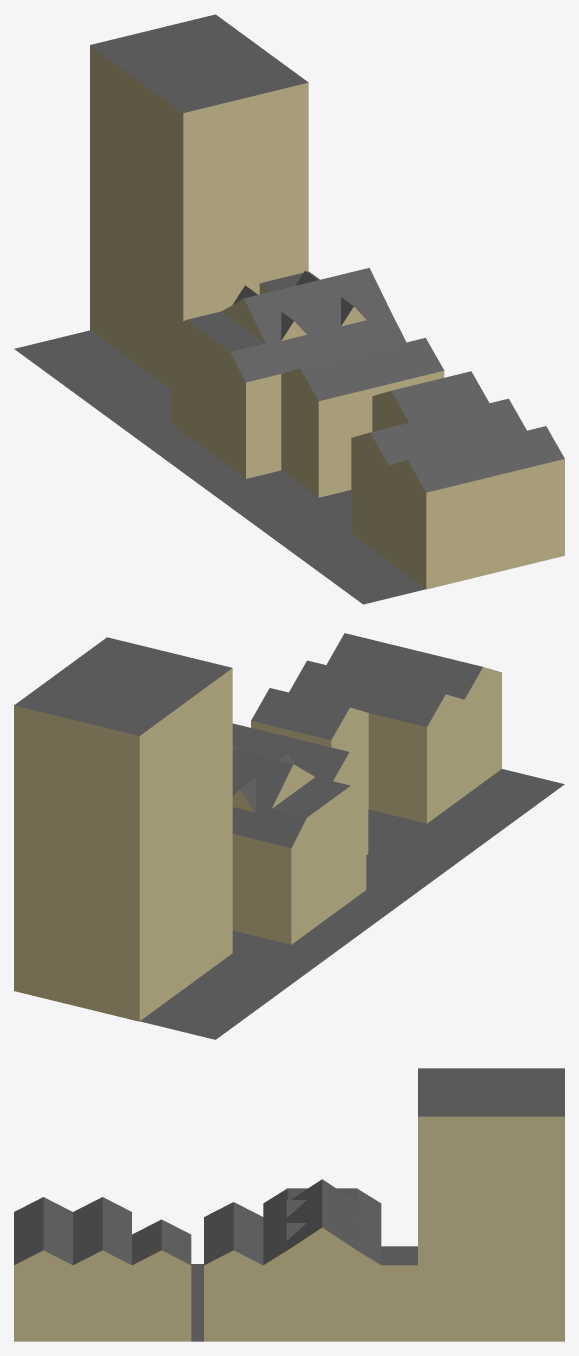
The model's file is 3x1_Buildings3.col.glb.
3 views of the same model, one above another, from view 1: azimuth 30°, elevation 25°; view 2: azimuth 150°, elevation 25°; view 3: azimuth 270°, elevation 25° (orthographic). The views are drawn at different scales.
Parts seen in each view (by area): view 1: 3x1_Buildings3.col; view 2: 3x1_Buildings3.col; view 3: 3x1_Buildings3.col.
Part boxes in pixels (left/top/right/bottom): 3x1_Buildings3.col: left=14, top=14, right=564, bottom=604; 3x1_Buildings3.col: left=14, top=633, right=564, bottom=1039; 3x1_Buildings3.col: left=14, top=1068, right=564, bottom=1341.
Bounding box in the file's own units: 20 × 27.07 × 60.
